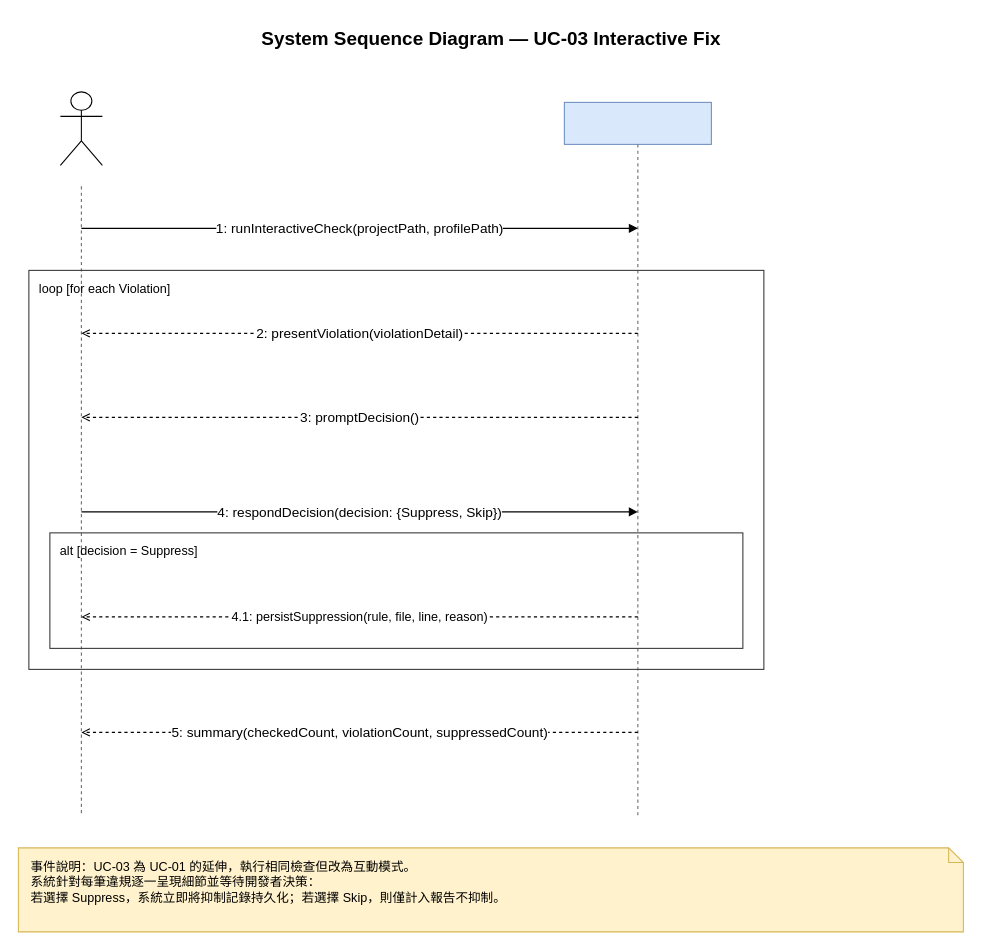
Some shapes in this 982 by 950 pixel diagram are drawn without their labels. The shapes that lost their labels are listed below. From the top down, each one's centre as x and y in pixels, then its label:
At point 80,128: "Developer".
At point 637,122: ":System".
